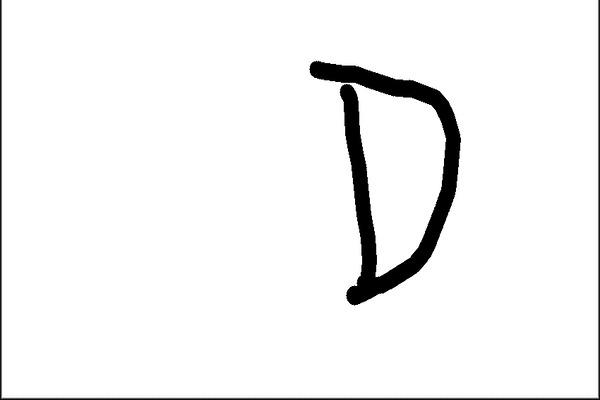D: (305, 55, 467, 308)
